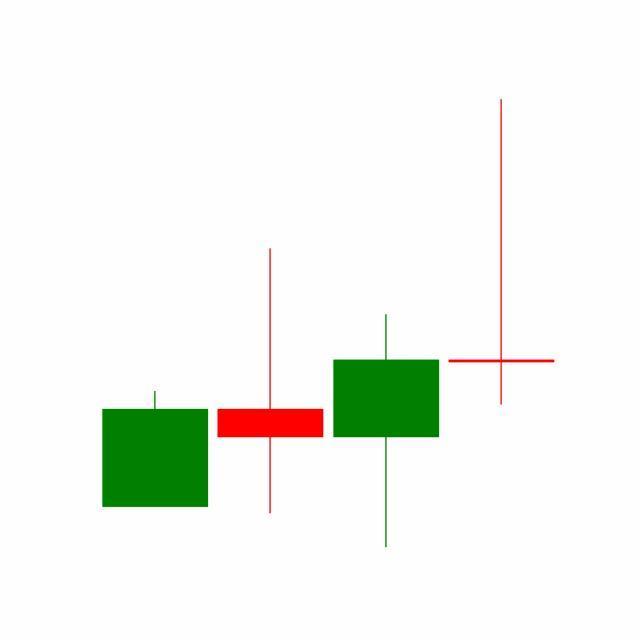Spinning Top: (444, 96, 560, 409)
